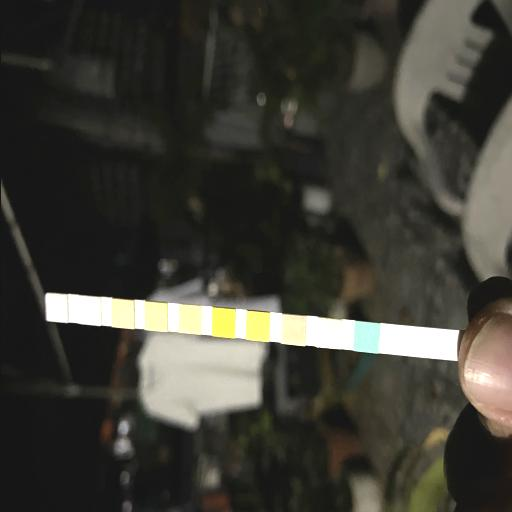Bilirubin: (318, 320, 340, 346)
Blood: (212, 310, 234, 336)
Glucose: (354, 322, 376, 350)
Ketone: (282, 316, 304, 344)
Leukocytes: (46, 294, 66, 321)
Nitrite: (80, 298, 98, 324)
Protein: (145, 304, 165, 328)
SpGravity: (246, 312, 268, 340)
Urobilinogen: (112, 302, 132, 326)
pH: (178, 307, 198, 331)
strip: (44, 293, 454, 361)
